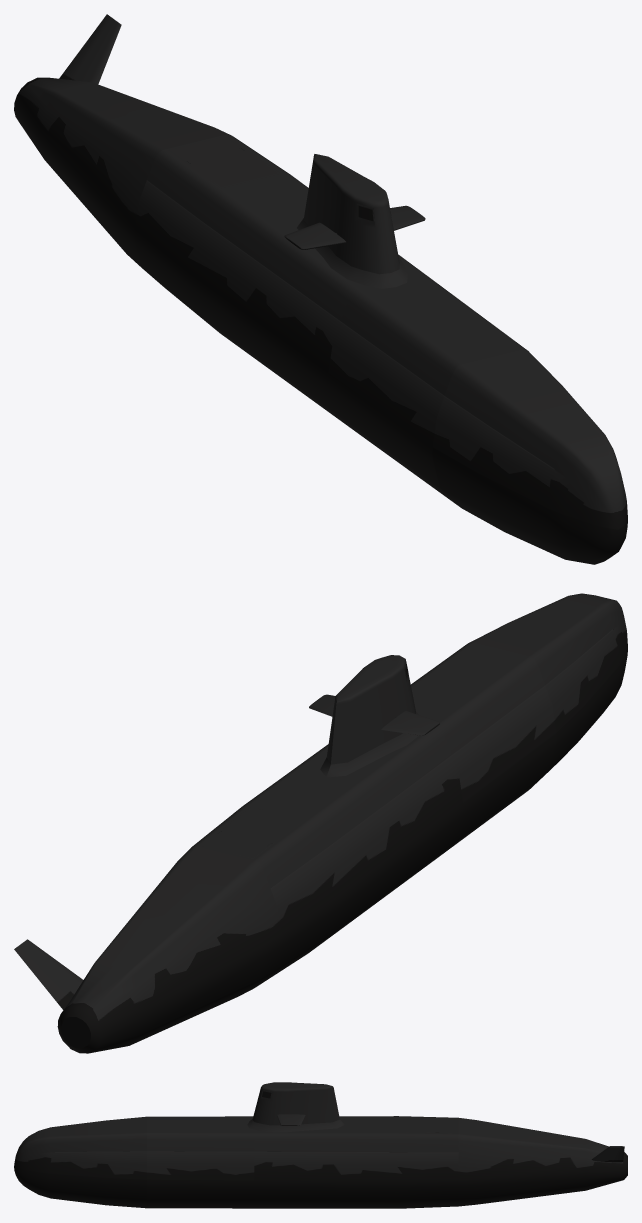
Rendered from submarine.glb.
3 views of the same model, one above another, from view 1: azimuth 30°, elevation 25°; view 2: azimuth 150°, elevation 25°; view 3: azimuth 270°, elevation 25° (orthographic). The views are drawn at different scales.
Parts seen in each view (by area): view 1: dieselsub_red, dieselsub_red_rudder, dieselsub_red_diveplanes; view 2: dieselsub_red, dieselsub_red_rudder, dieselsub_red_diveplanes; view 3: dieselsub_red, dieselsub_red_rudder, dieselsub_red_diveplanes.
Boxes of the visible parts, x1,y1,x2,y2 form: dieselsub_red: (14,77,627,564); dieselsub_red_rudder: (59,14,121,84); dieselsub_red_diveplanes: (284,205,425,249); dieselsub_red: (57,593,627,1053); dieselsub_red_rudder: (14,939,83,1009); dieselsub_red_diveplanes: (309,694,439,735); dieselsub_red: (14,1082,627,1208); dieselsub_red_rudder: (592,1146,624,1162); dieselsub_red_diveplanes: (277,1114,305,1125).
Size of the model in its own units: 4.62 by 7.51 by 34.87.
Materials: 1 (1 with a texture image).
